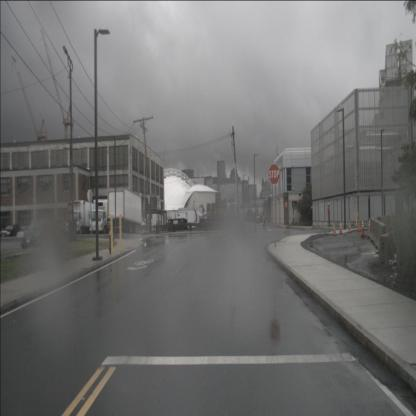barrier: (379, 230, 400, 269), (367, 219, 387, 252), (373, 214, 398, 233), (134, 224, 144, 234), (143, 225, 151, 234)
cone: (360, 219, 366, 237), (339, 220, 343, 235), (368, 218, 372, 233), (332, 222, 336, 236), (348, 220, 352, 233), (357, 220, 361, 231)
